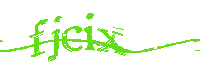c: (62, 25, 84, 51)
f: (30, 17, 47, 56)
i: (85, 12, 96, 52)
j: (49, 13, 61, 64)
x: (97, 27, 126, 56)
